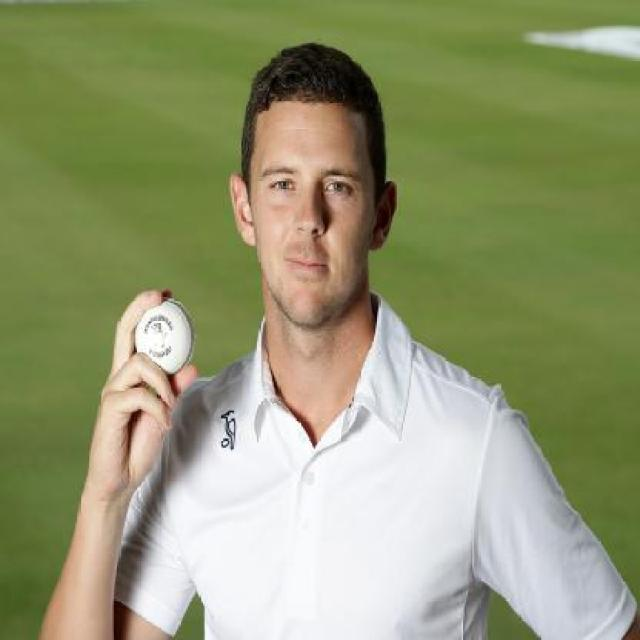ball: (110, 256, 218, 402)
